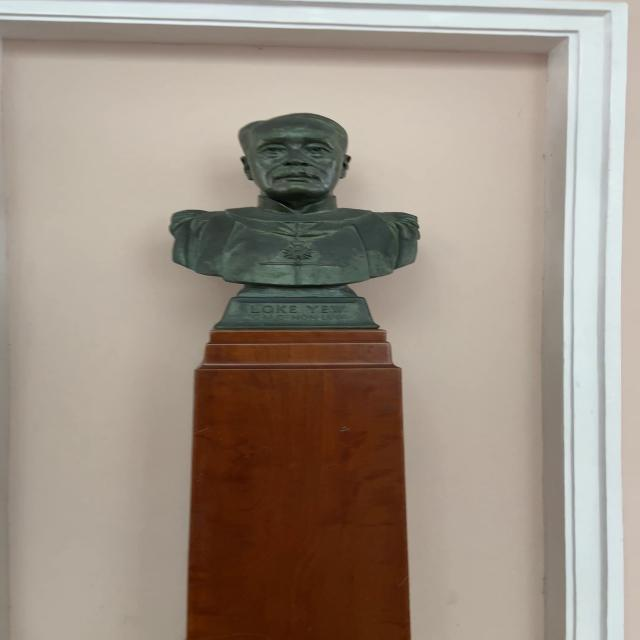statues: (156, 108, 434, 332)
